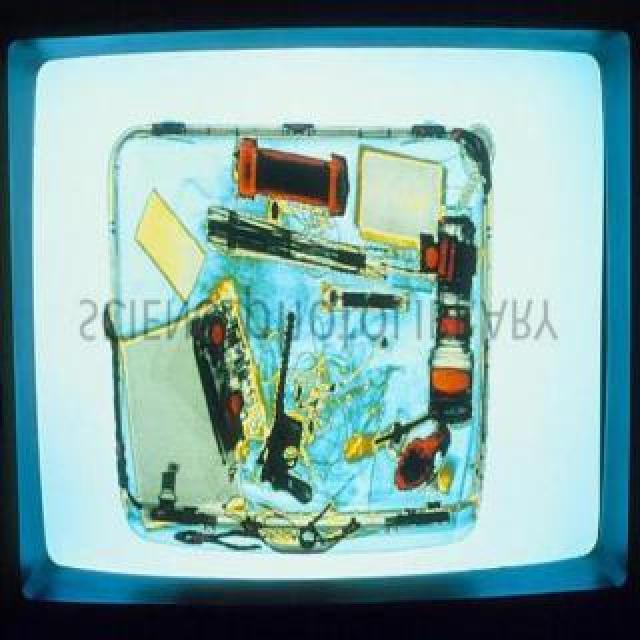gun: (260, 308, 318, 504)
